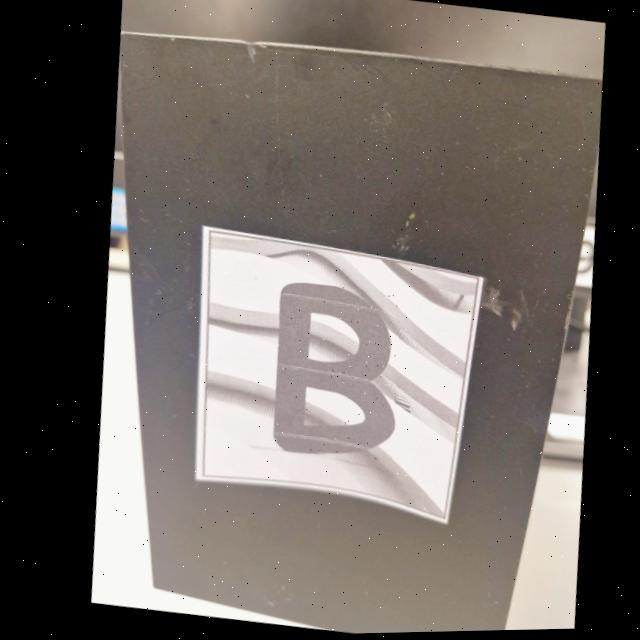B: (266, 285, 386, 455)
